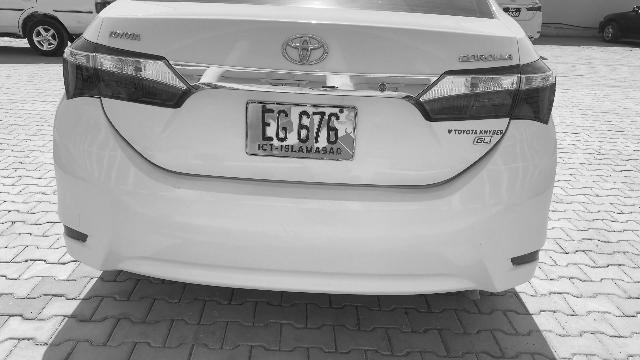Number: (257, 105, 342, 145)
